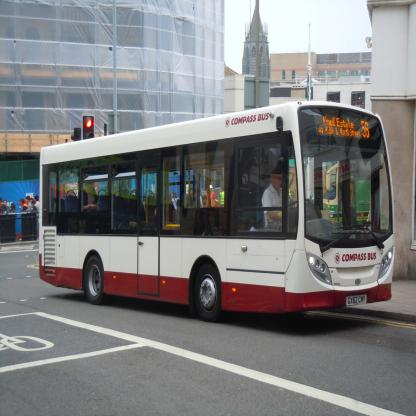Bus: (39, 101, 395, 323)
